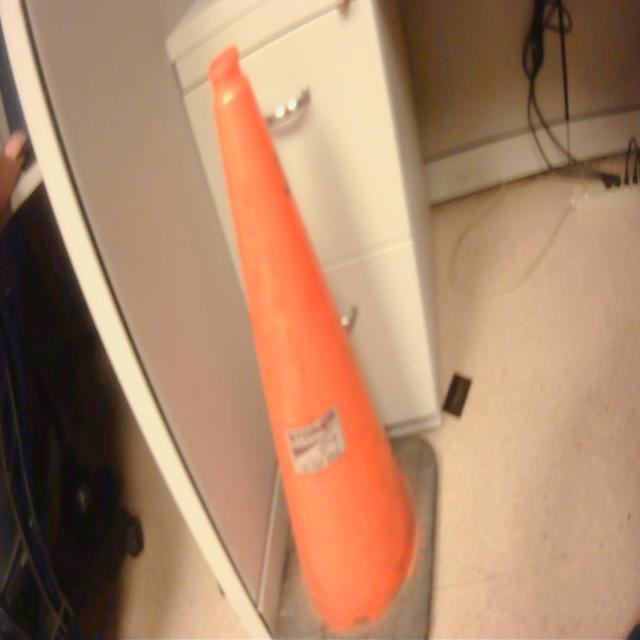traffic cone: (204, 38, 448, 640)
